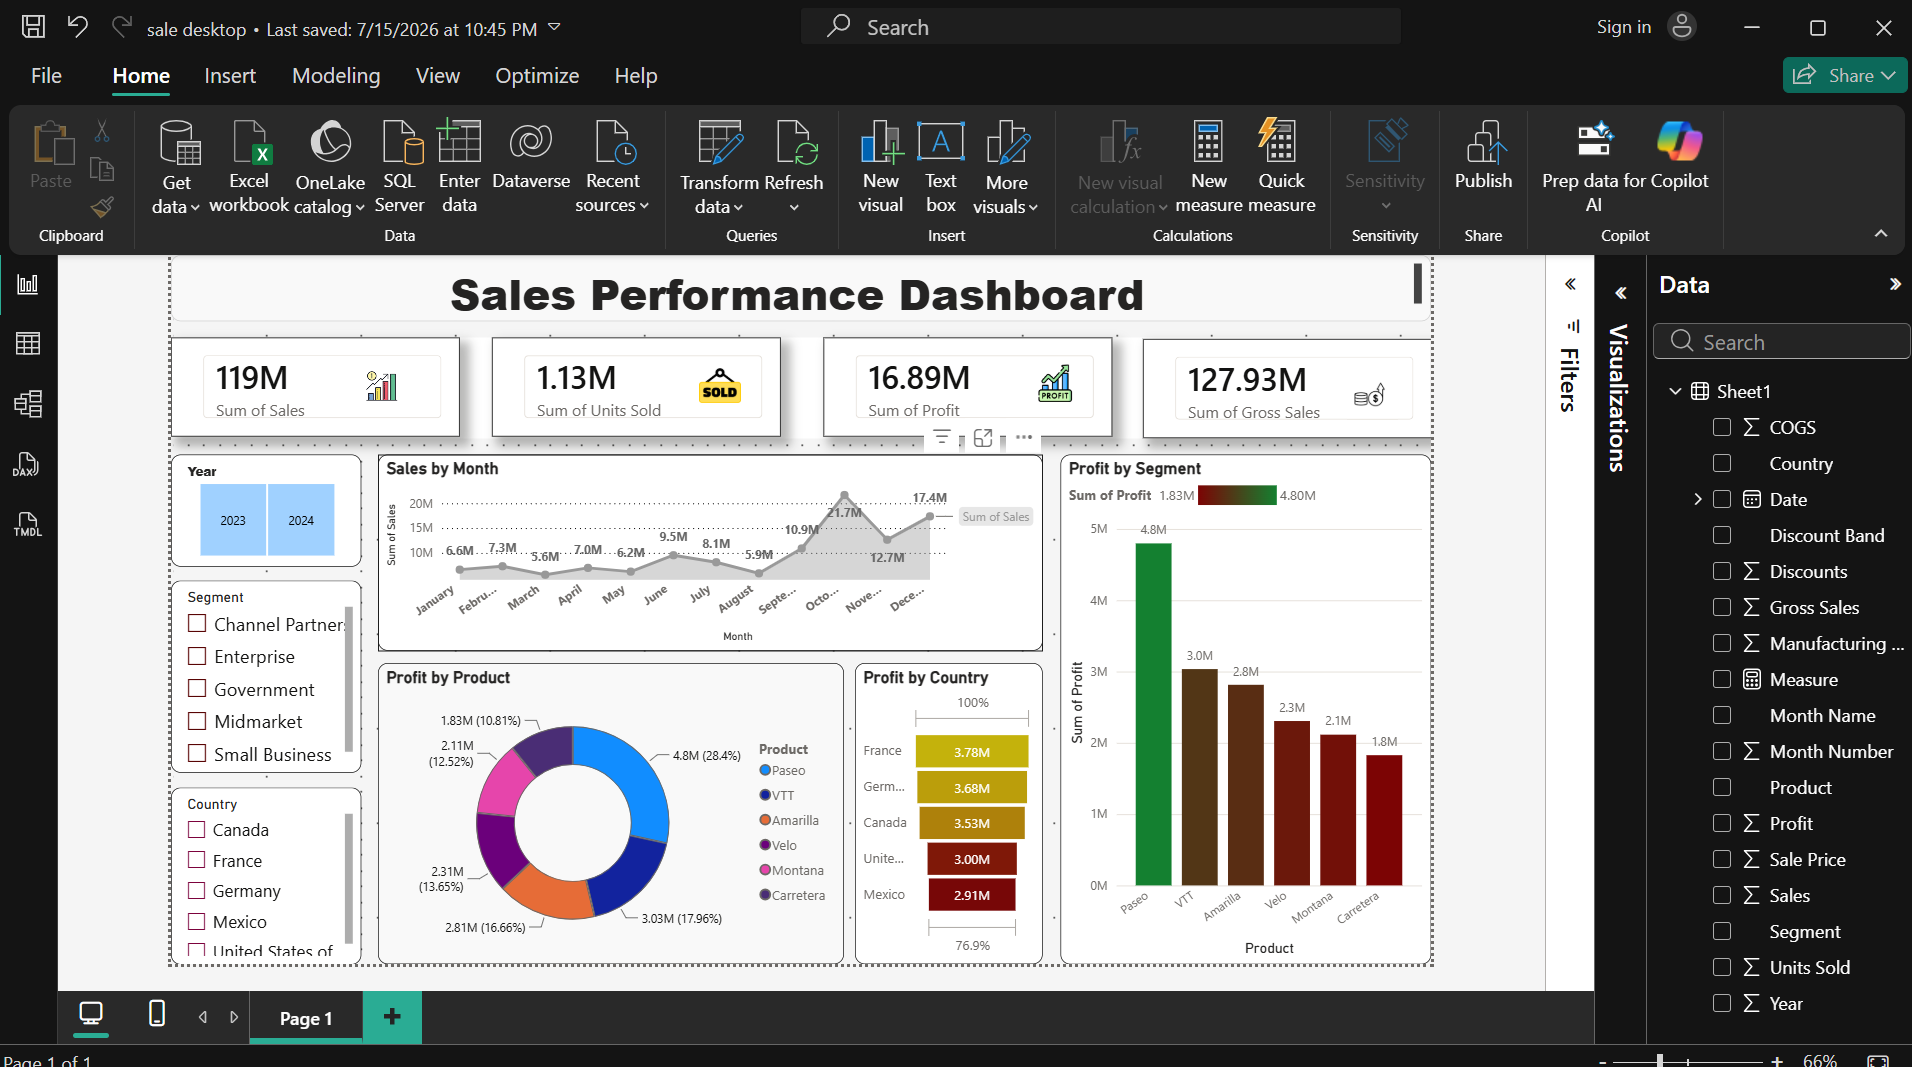

The page's visual inventory and layout, read from the dashboard file:
{"tool":"powerbi","page":{"name":"Page 1","canvas":[1280,720],"ordinal":0},"visuals":[{"type":"cardVisual","title":"💰","fields":{"Data":["Sum(Sheet1.Sales)"]},"box":[0,83.8,293.2,100.9],"z":0,"group":"g1"},{"type":"textbox","box":[0,0,1280,67.1],"z":1000},{"type":"cardVisual","fields":{"Data":["Sum(Sheet1.Units Sold)"]},"box":[326.8,83.8,293.2,100.9],"z":1000,"group":"g1"},{"type":"group","id":"g1","title":"Group 1","box":[0,83.8,1280,102.1],"z":2000},{"type":"cardVisual","fields":{"Data":["Sum(Sheet1.Profit)"]},"box":[663.2,83.8,293.2,100.9],"z":2000,"group":"g1"},{"type":"cardVisual","fields":{"Data":["Sum(Sheet1.Gross Sales)"]},"box":[986.8,85,293.2,100.9],"z":3000,"group":"g1"},{"type":"donutChart","title":"Profit by Product","fields":{"Y":["Sum(Sheet1.Profit)"],"Category":["Sheet1.Product"]},"box":[210.9,414.1,473.4,306.2],"z":3000},{"type":"image","box":[193.5,110,41.1,48.8],"z":4000,"group":"g1"},{"type":"clusteredColumnChart","title":"Profit by Segment","fields":{"Category":["Sheet1.Product"],"Y":["Sum(Sheet1.Profit)"]},"box":[903.6,202.7,376.4,518.1],"z":4000},{"type":"image","box":[879.2,106.9,38.1,47.2],"z":5000,"group":"g1"},{"type":"lineChart","title":"Sales by Month","fields":{"Category":["Sheet1.Date.Variation.Date Hierarchy.Month"],"Y":["Sum(Sheet1.Sales)"]},"box":[210.3,202.7,675,199.6],"z":5000},{"type":"slicer","fields":{"Values":["Sheet1.Year"]},"box":[0,202.7,193.5,114.3],"z":6000},{"type":"slicer","fields":{"Values":["Sheet1.Segment"]},"box":[0,330.7,193.5,195],"z":7000},{"type":"slicer","fields":{"Values":["Sheet1.Country"]},"box":[0,541,193.5,179.8],"z":8000},{"type":"funnel","title":"Profit by Country","fields":{"Category":["Sheet1.Country"],"Y":["Sum(Sheet1.Profit)"]},"box":[695.3,414.1,190.6,306.2],"z":9000},{"type":"image","box":[536.4,114.3,42.7,36.6],"z":10000},{"type":"image","box":[1194.7,114.3,51.8,54.9],"z":11000}]}

Visuals, with their boxes on the page's 1280x720 design canvas (x1, y1, x2, y2). These are canvas units, not pixel positions in the 1912x1067 screenshot, which may show the page scaled, cropped or inside an application window:
"💰" cardVisual: 0:84:293:185
textbox: 0:0:1280:67
cardVisual - Sum(Sheet1.Units Sold): 327:84:620:185
"Group 1" group: 0:84:1280:186
cardVisual - Sum(Sheet1.Profit): 663:84:956:185
cardVisual - Sum(Sheet1.Gross Sales): 987:85:1280:186
"Profit by Product" donutChart: 211:414:684:720
image: 194:110:235:159
"Profit by Segment" clusteredColumnChart: 904:203:1280:721
image: 879:107:917:154
"Sales by Month" lineChart: 210:203:885:402
slicer - Sheet1.Year: 0:203:194:317
slicer - Sheet1.Segment: 0:331:194:526
slicer - Sheet1.Country: 0:541:194:721
"Profit by Country" funnel: 695:414:886:720
image: 536:114:579:151
image: 1195:114:1246:169
